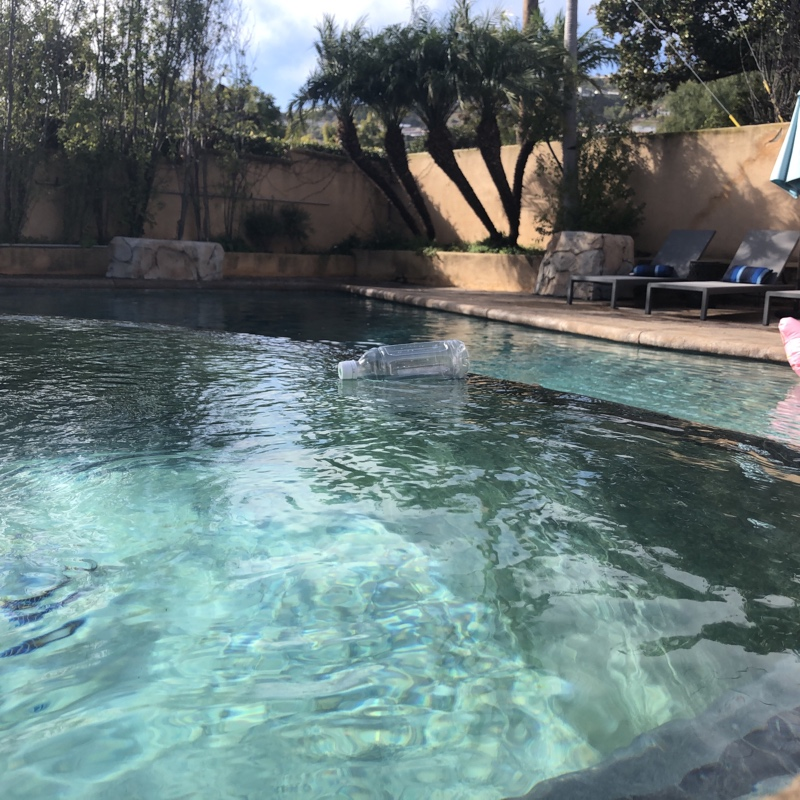Plastic Bottle: (333, 336, 473, 387)
